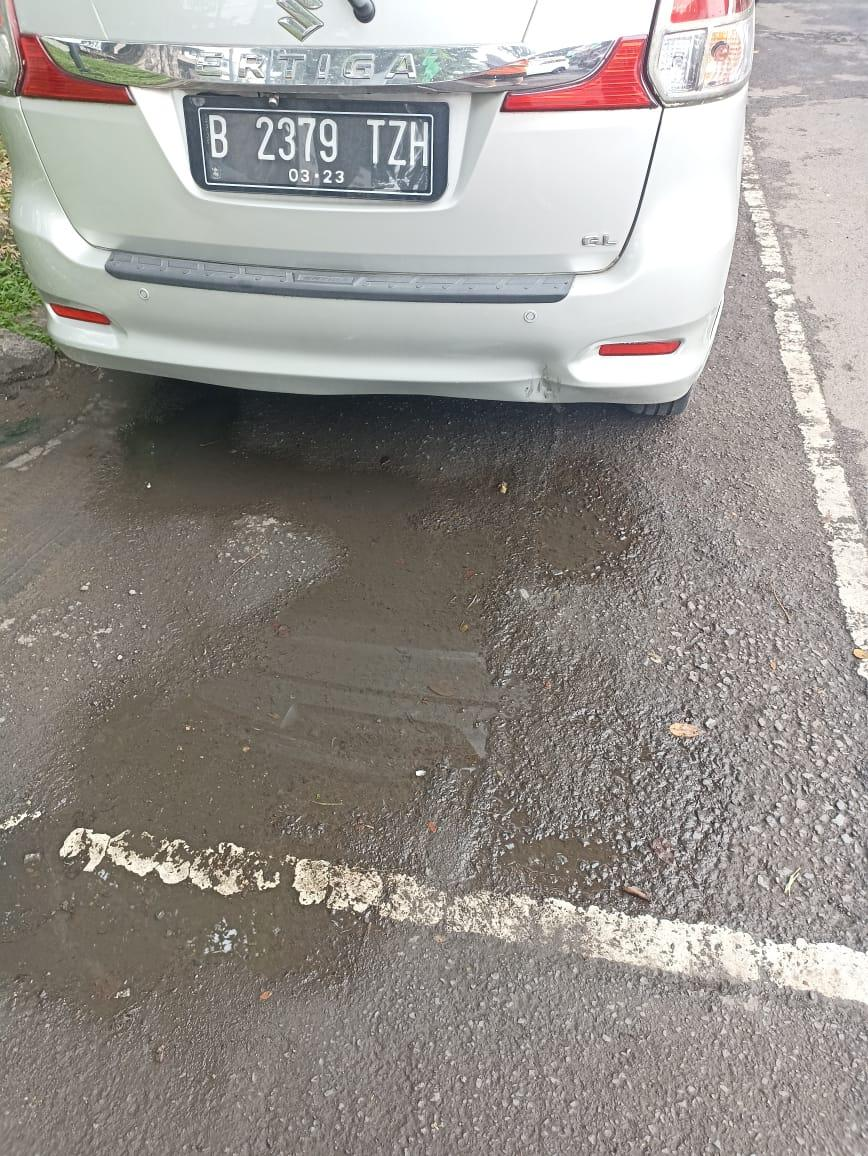plat: (185, 97, 447, 201)
